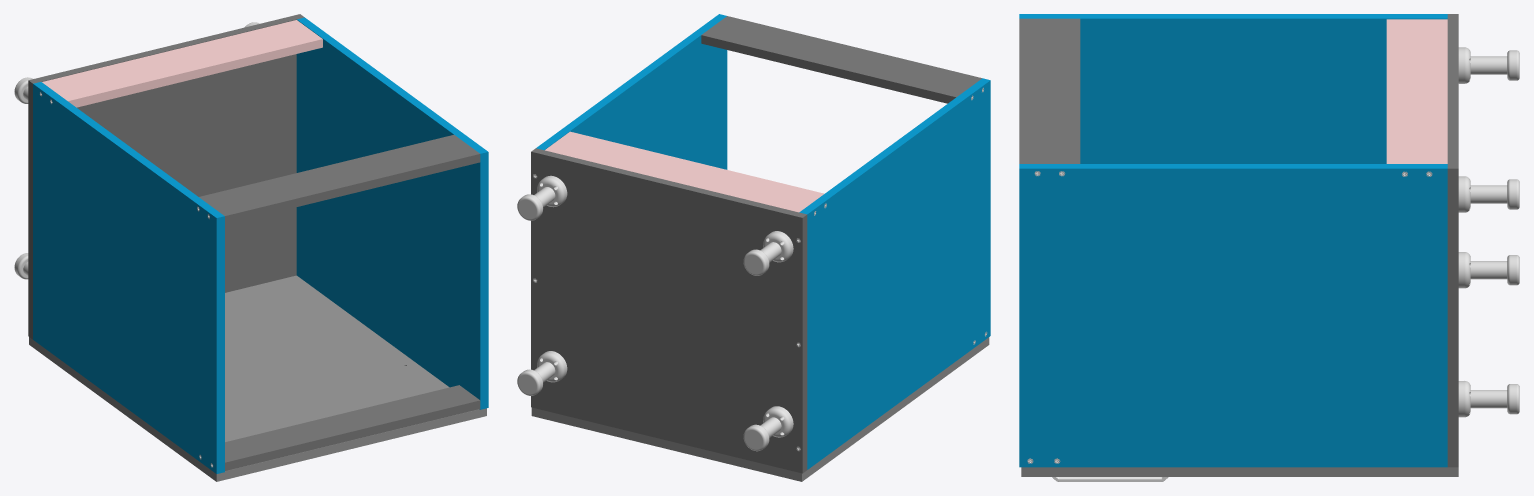
File: PERSP.glb
3 views of the same model, side by side, from view 1: azimuth 30°, elevation 25°; view 2: azimuth 150°, elevation 25°; view 3: azimuth 270°, elevation 25° (orthographic). The views are drawn at different scales.
Parts seen in each view (by area): view 1: *MODEL_SPACE; view 2: *MODEL_SPACE, Virtuvne Kojele (×4); view 3: *MODEL_SPACE, Virtuvne Kojele (×4), CB_911192_MP02_WH.
Boxes of the visible parts, box(x1,y1,x2,y2) form: *MODEL_SPACE: box(28, 14, 488, 481); *MODEL_SPACE: box(531, 14, 990, 481); Virtuvne Kojele (×4): box(517, 175, 793, 451); *MODEL_SPACE: box(1019, 14, 1458, 476); Virtuvne Kojele (×4): box(1458, 47, 1519, 417); CB_911192_MP02_WH: box(1052, 477, 1168, 481).
Bounding box in the file's own units: 0.6 × 0.5817 × 0.82.
